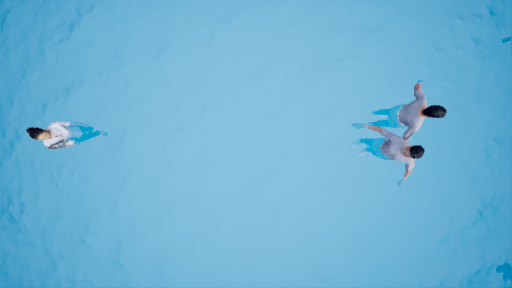person: (342, 118, 430, 183), (365, 83, 459, 137), (21, 111, 118, 157)
